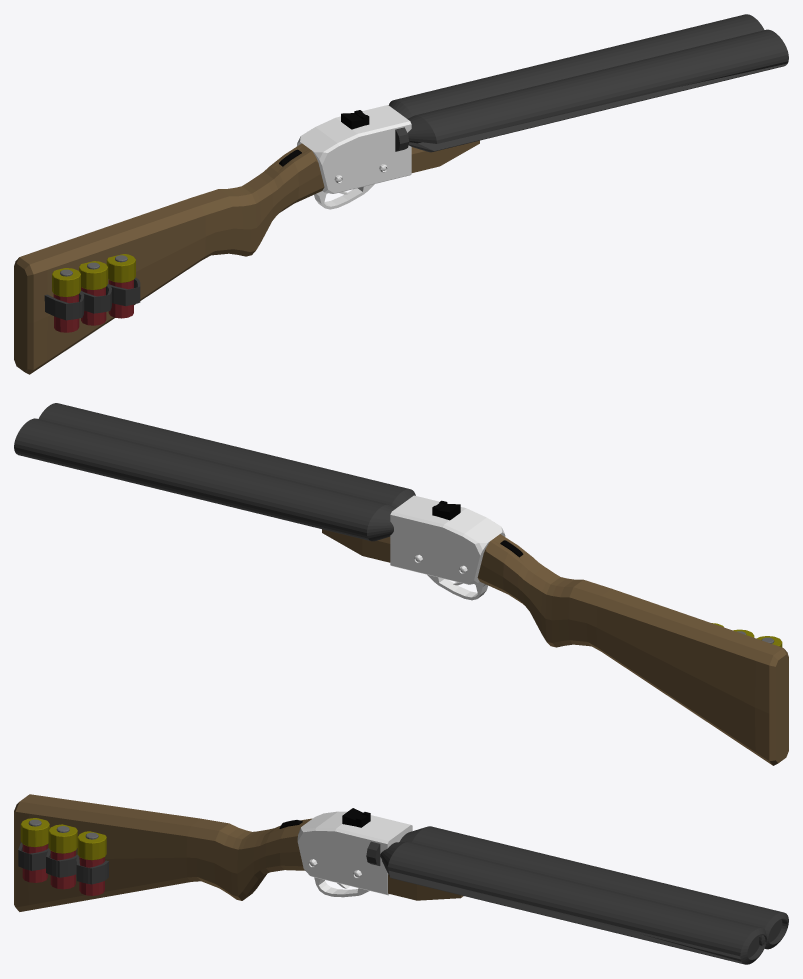
File: shotgun3.fbx
3 views of the same model, one above another, from view 1: azimuth 30°, elevation 25°; view 2: azimuth 150°, elevation 25°; view 3: azimuth 330°, elevation 25° (orthographic).
Parts seen in each view (by area): view 1: Namlu, Kabza, Govde, Mermi1, Mermilik, Mermi3, NamluAlti; view 2: Kabza, Namlu, Govde, NamluAlti; view 3: Namlu, Kabza, Govde, Mermi1, Mermilik, Mermi3, NamluAlti, Nisangah.
Boxes of the visible parts, <box> form: Namlu: <box>388,14,788,152</box>; Kabza: <box>14,143,324,374</box>; Govde: <box>296,105,411,209</box>; Mermi1: <box>52,254,135,297</box>; Mermilik: <box>44,277,140,320</box>; Mermi3: <box>53,280,133,332</box>; NamluAlti: <box>411,140,479,172</box>; Kabza: <box>477,534,788,765</box>; Namlu: <box>14,403,415,541</box>; Govde: <box>390,495,505,600</box>; NamluAlti: <box>322,529,390,562</box>; Namlu: <box>380,826,788,964</box>; Kabza: <box>14,794,312,911</box>; Govde: <box>297,811,412,897</box>; Mermi1: <box>20,818,106,860</box>; Mermilik: <box>18,842,108,884</box>; Mermi3: <box>22,844,104,895</box>; NamluAlti: <box>388,874,463,900</box>; Nisangah: <box>342,808,370,827</box>.
Bounding box in the file's own units: 851 × 190 × 95.87.
